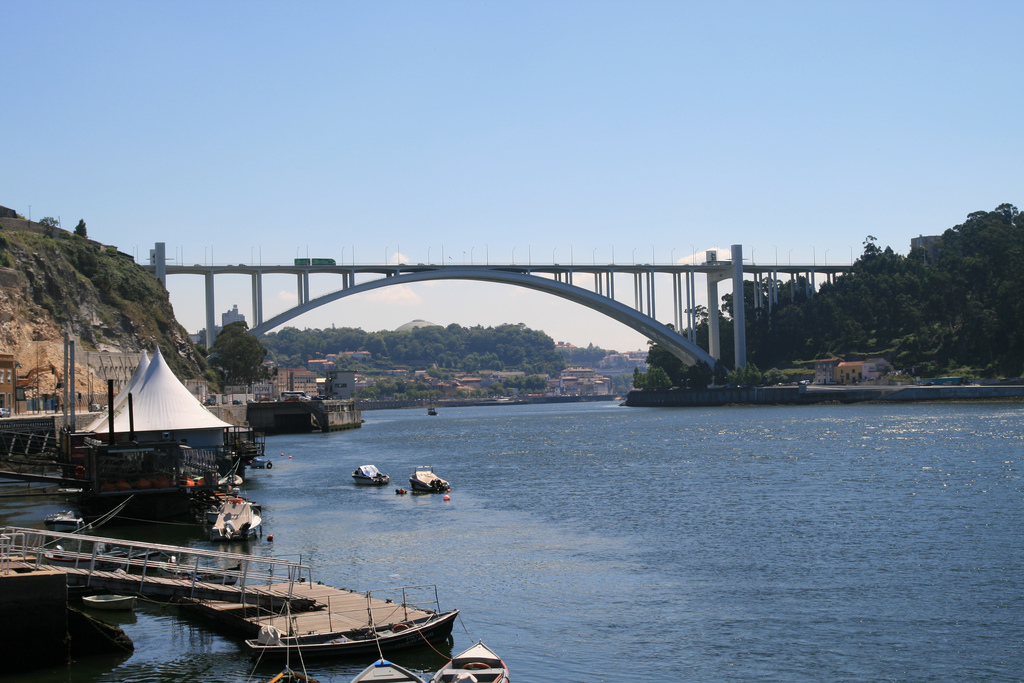arrabida: (119, 239, 860, 381)
